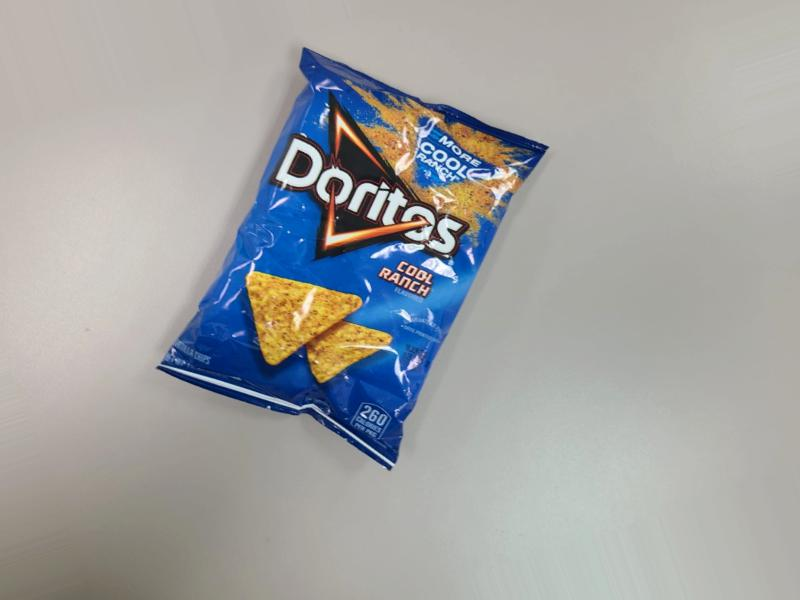doritos: (163, 42, 533, 481)
